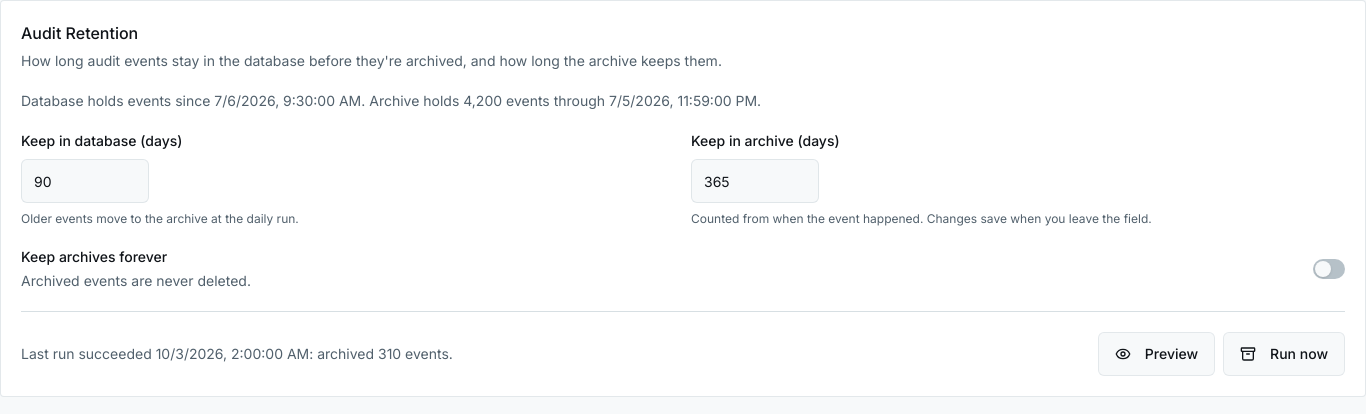
Test: AuditRetentionSettings › summarises a preview of 0 and 0 events
Expected: the number field labelled "Keep in database (days)" is enabled, top-left (21, 159), bottom-right (149, 203)
Click the button "Preview". click: (1156, 354)
box: top-left (1098, 332), bottom-right (1215, 376)
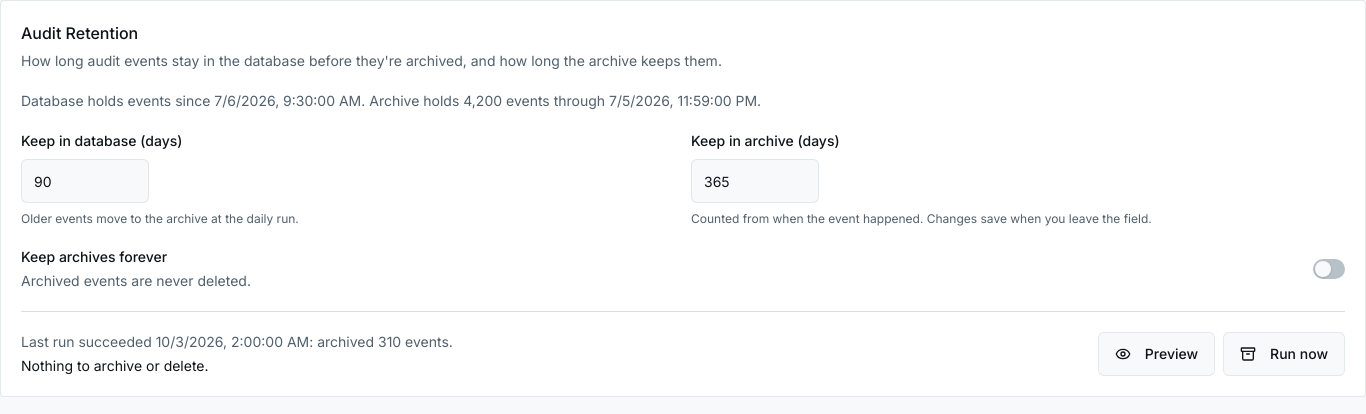
Now the text "Nothing to archive or delete." is shown, box top-left (21, 357), bottom-right (209, 374)
